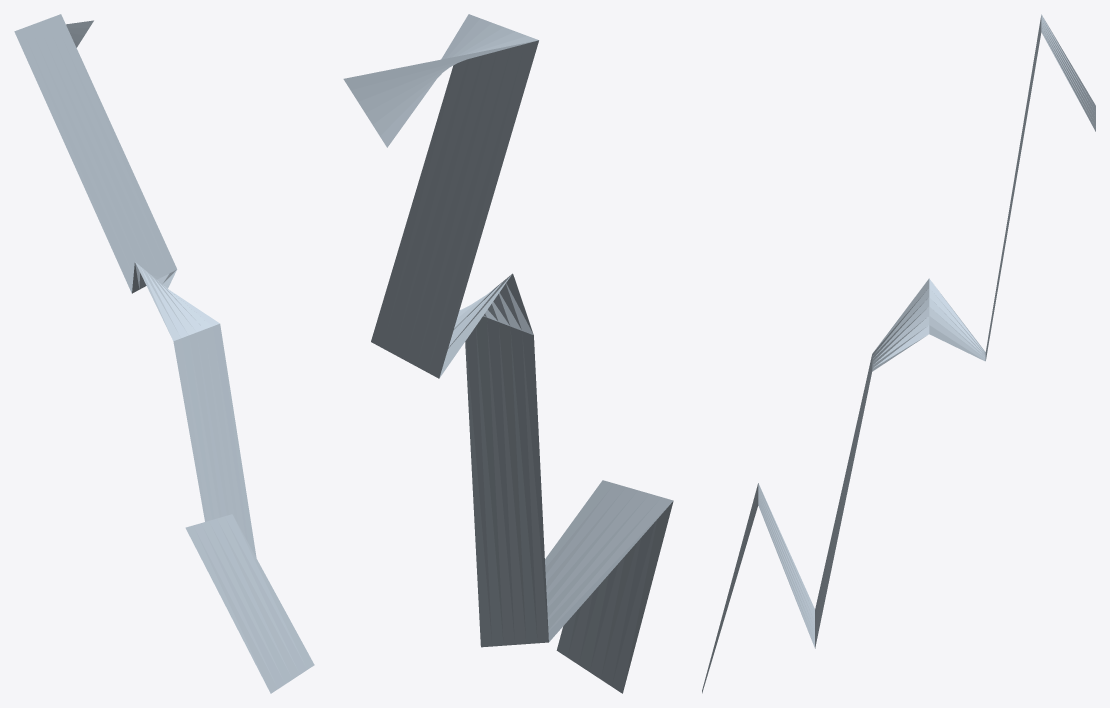
The model's file is 2059_ElectroSurround_SurroundArc13.fbx.
The picture shows the model from 3 angles, left to right: view 1: azimuth 30°, elevation 25°; view 2: azimuth 150°, elevation 25°; view 3: azimuth 270°, elevation 25°; orthographic projection. The views are drawn at different scales.
Parts seen in each view (by area): view 1: PART_SurroundArc13; view 2: PART_SurroundArc13; view 3: PART_SurroundArc13.
Boxes of the visible parts, bbox=[...] form: PART_SurroundArc13: bbox=[14, 14, 314, 693]; PART_SurroundArc13: bbox=[343, 14, 673, 693]; PART_SurroundArc13: bbox=[702, 14, 1095, 693].
Size of the model in its own units: 13.47 by 51.57 by 29.23.
